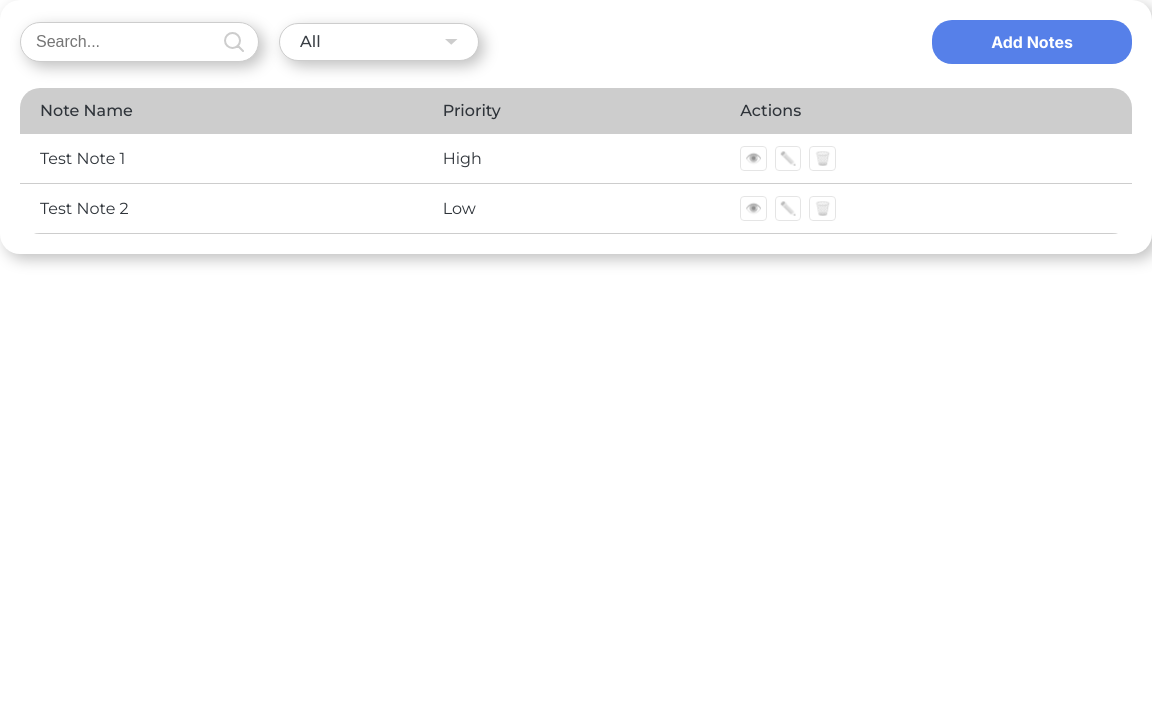
Test case: ProfilePage Component › should open ViewNotePopup when a row is clicked
This screenshot has width=1152, height=720.
Click the text "Test Note 1": (83, 158) [20, 134, 423, 184]
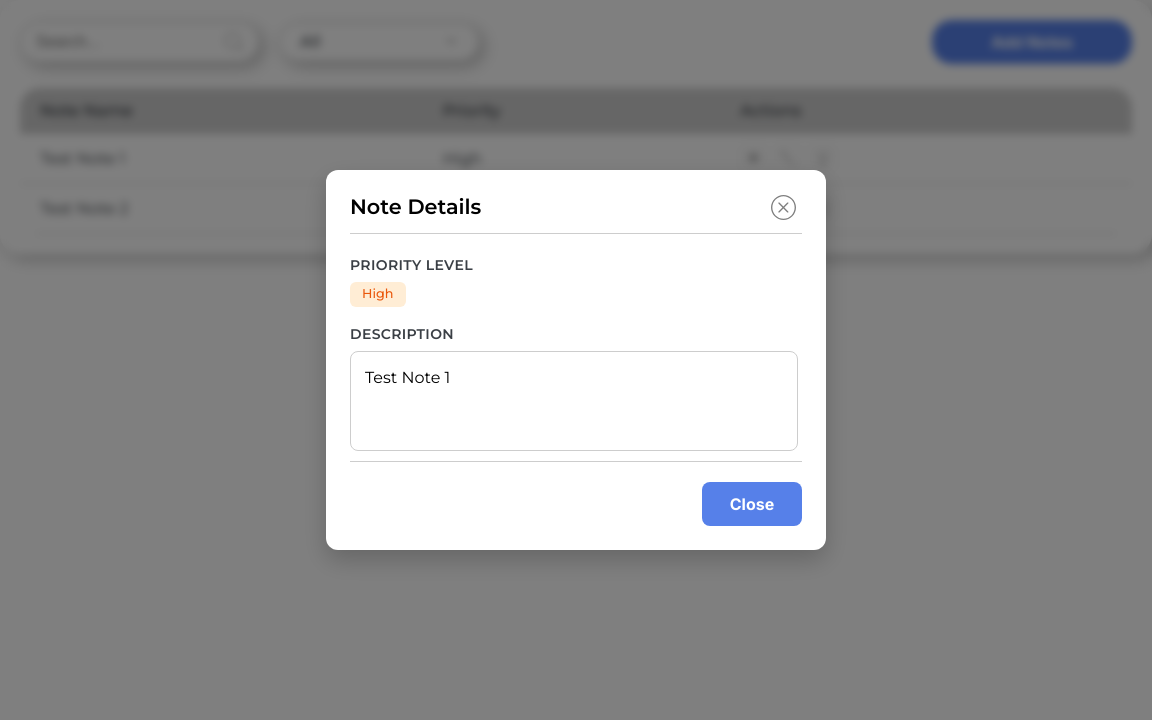
Expected: the button "Close" is shown, [702, 482, 802, 526]
